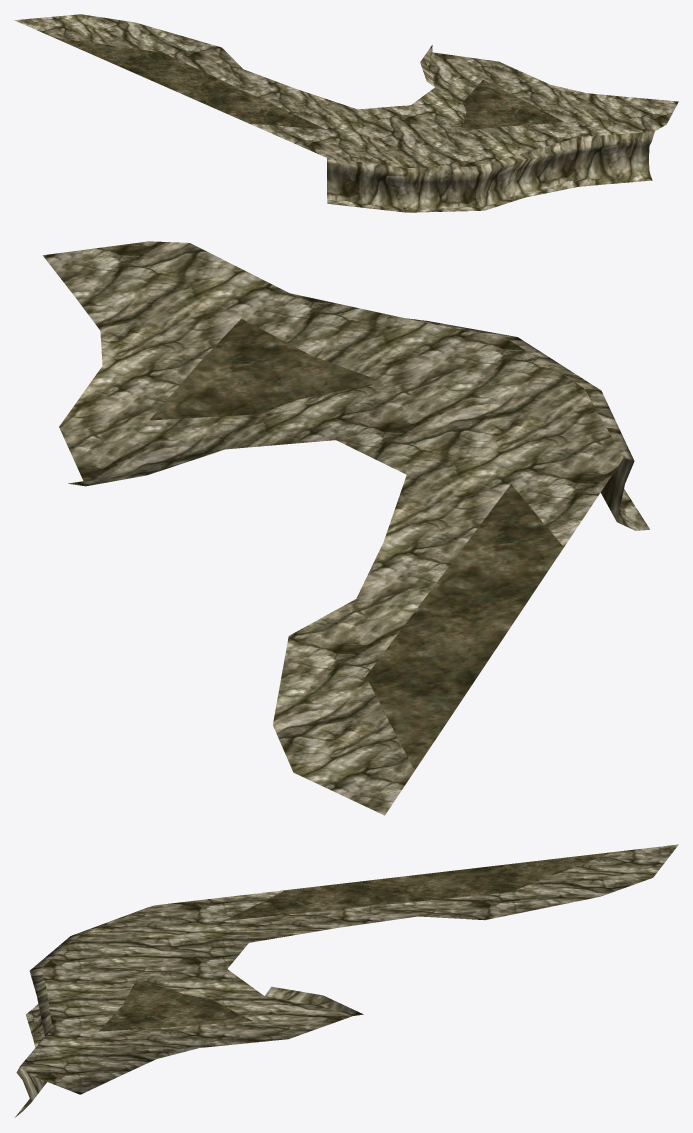
Rendered from CB_NEWPLAYSURFACE_CB_PLAYSURFACE84.fbx.
The picture shows the model from 3 angles, top to bottom: view 1: azimuth 30°, elevation 25°; view 2: azimuth 150°, elevation 25°; view 3: azimuth 270°, elevation 25°; orthographic projection. The views are drawn at different scales.
Visible parts, largest first — view 1: CB_NEWPLAYSURFACE_CB_PLAYSURFACE84; view 2: CB_NEWPLAYSURFACE_CB_PLAYSURFACE84; view 3: CB_NEWPLAYSURFACE_CB_PLAYSURFACE84.
Part boxes in pixels (x1,y1,x2,y2): CB_NEWPLAYSURFACE_CB_PLAYSURFACE84: (14,14,678,212); CB_NEWPLAYSURFACE_CB_PLAYSURFACE84: (43,241,649,815); CB_NEWPLAYSURFACE_CB_PLAYSURFACE84: (15,844,678,1117).
Size of the model in its own units: 334715 by 38592 by 380382.
Materials: 3 (3 with a texture image).
